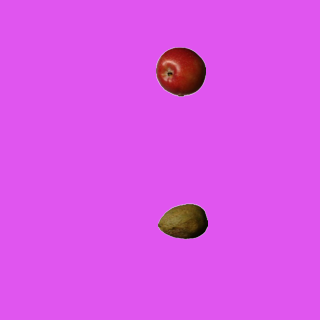Apple Braeburn: (155, 46, 205, 96)
Papaya: (157, 196, 207, 246)
